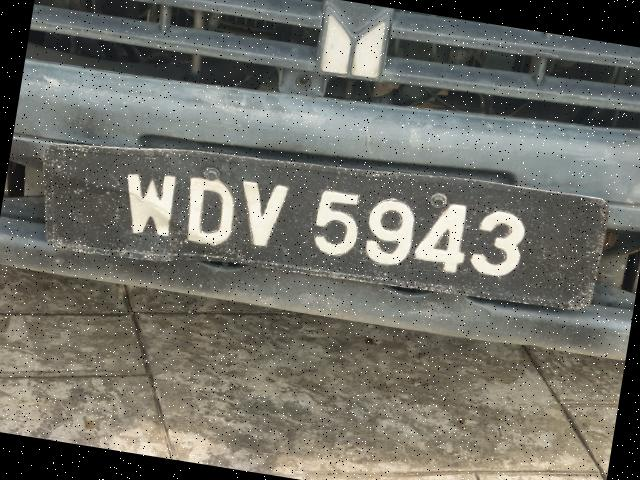License_Plate: (38, 137, 596, 311)
